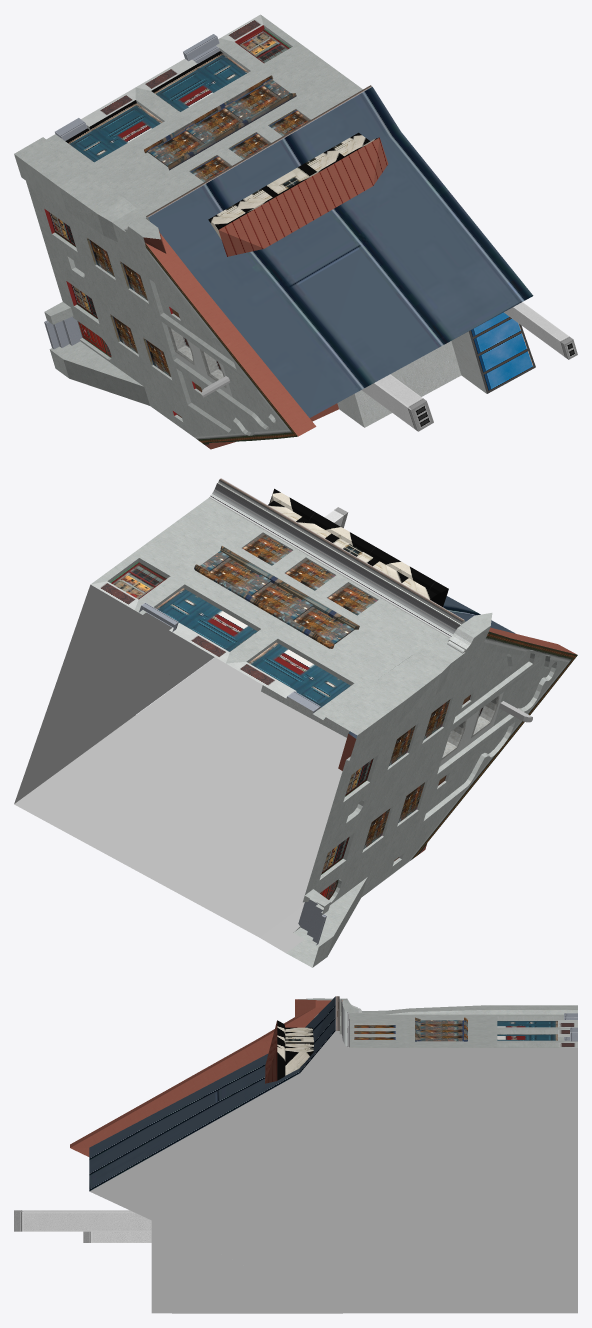
File: Pikk_10.obj
3 renders of one model, top to bottom at view 1: azimuth 30°, elevation 25°; view 2: azimuth 150°, elevation 25°; view 3: azimuth 270°, elevation 25°, orthographic. The views are drawn at different scales.
Parts seen in each view (by area): view 1: Pikk_10; view 2: Pikk_10; view 3: Pikk_10.
Part boxes in pixels (x1,y1,x2,y2): Pikk_10: (14,14,577,449); Pikk_10: (14,478,577,967); Pikk_10: (14,996,577,1313).
Bounding box in the file's own units: 16.71 × 16 × 24.69.
